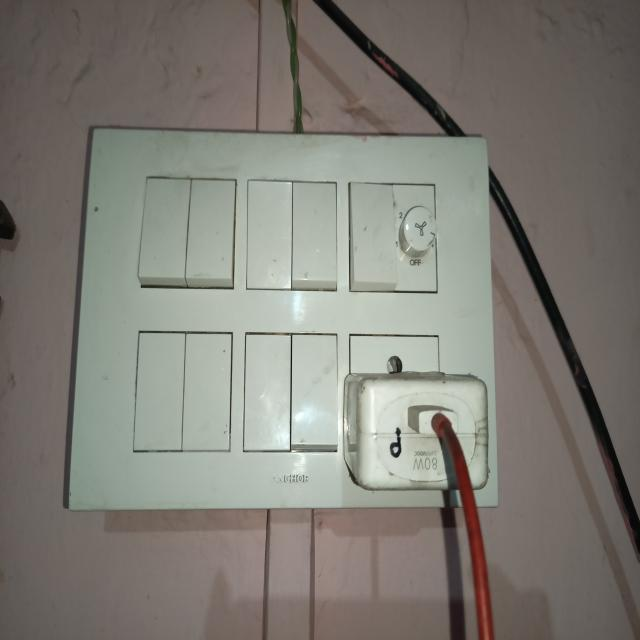plastic_box: (45, 101, 518, 533)
